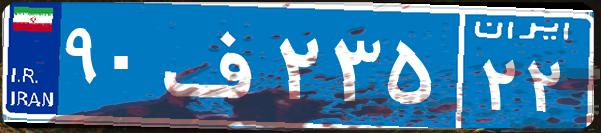0: (110, 28, 158, 105)
2: (273, 28, 330, 110), (475, 38, 525, 113), (525, 38, 570, 115)
3: (330, 28, 385, 110)
5: (385, 28, 445, 110)
9: (57, 26, 110, 107)
ف: (158, 15, 273, 115)
